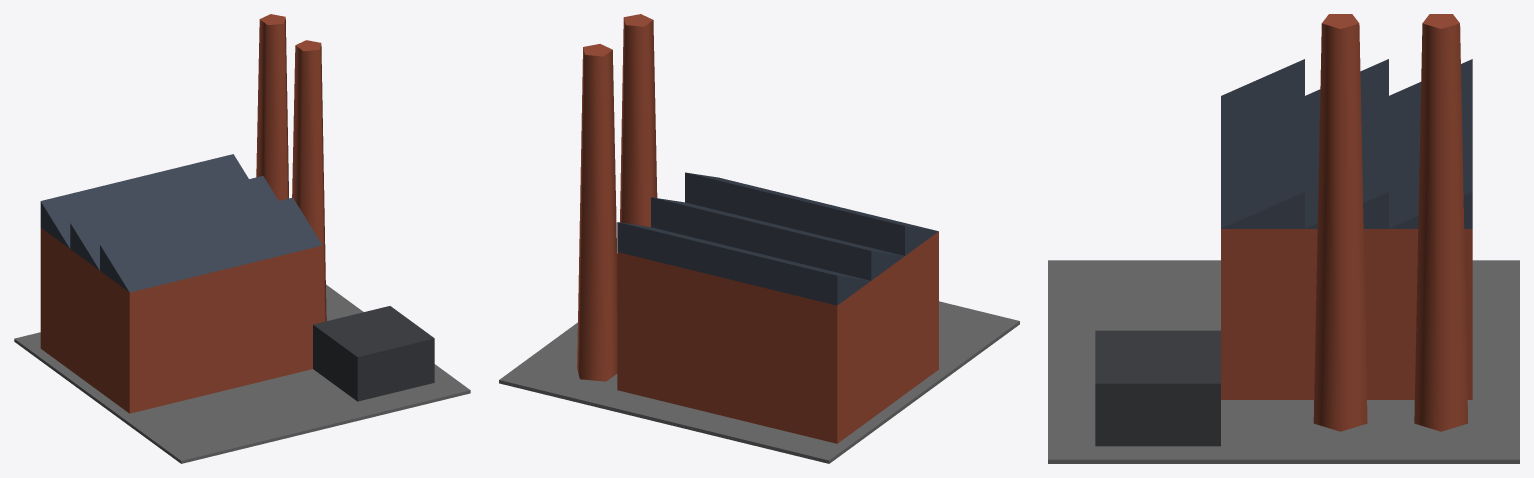
File: bld_special_power_plant_a05_lod2.glb
The picture shows the model from 3 angles, left to right: view 1: azimuth 30°, elevation 25°; view 2: azimuth 150°, elevation 25°; view 3: azimuth 270°, elevation 25°; orthographic projection. The views are drawn at different scales.
Parts seen in each view (by area): view 1: body; view 2: body; view 3: body.
Boxes of the visible parts, x1=… form: body: x1=14, y1=14, x2=470, y2=463; body: x1=499, y1=14, x2=1019, y2=463; body: x1=1048, y1=14, x2=1519, y2=463.
Size of the model in its own units: 15 by 14.15 by 15.
